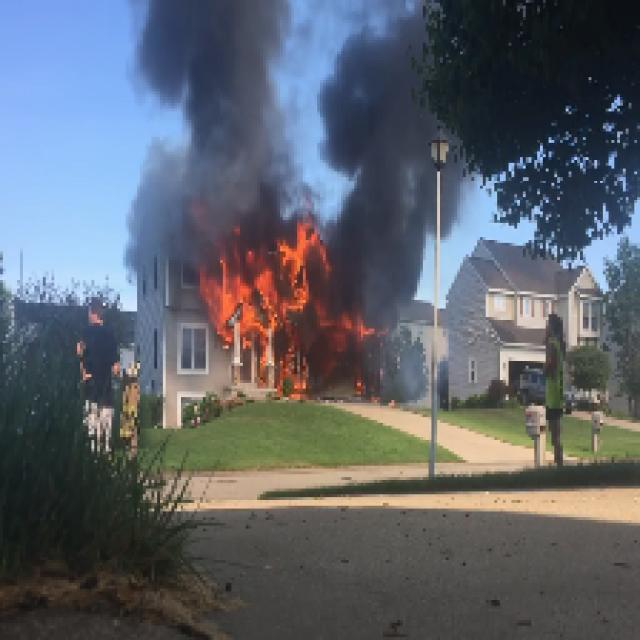fire: (214, 264, 298, 324)
smoke: (162, 0, 273, 243), (344, 49, 425, 328)
